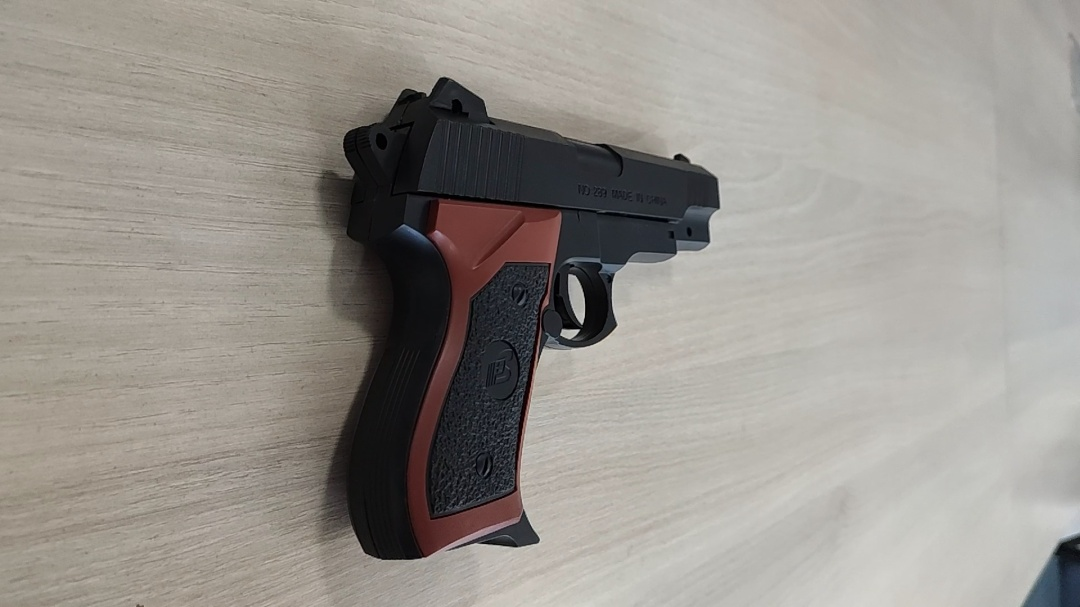gun: (338, 74, 729, 564)
